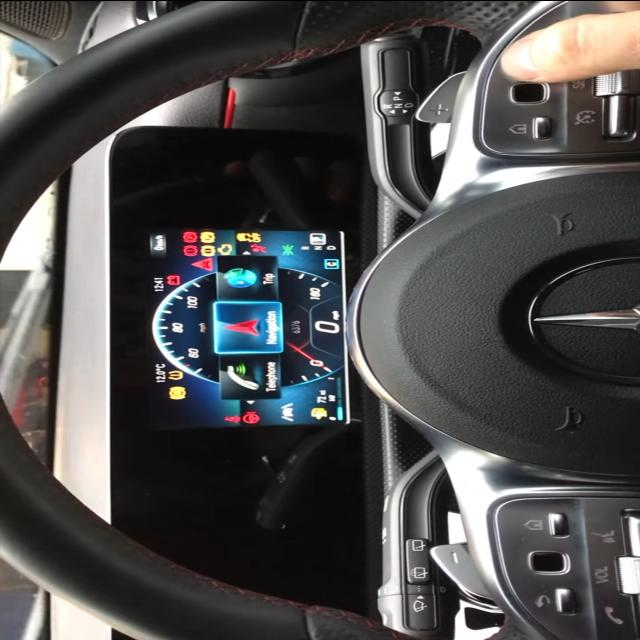Anti Lock Braking System: (168, 386, 186, 398)
Braking System Issue: (183, 244, 198, 255)
Charging System Issue: (167, 274, 180, 284)
Check Engine: (216, 242, 232, 255)
Low Tire Pressure Warning Light: (168, 369, 184, 378)
SRS-Airbag: (250, 242, 266, 252)
